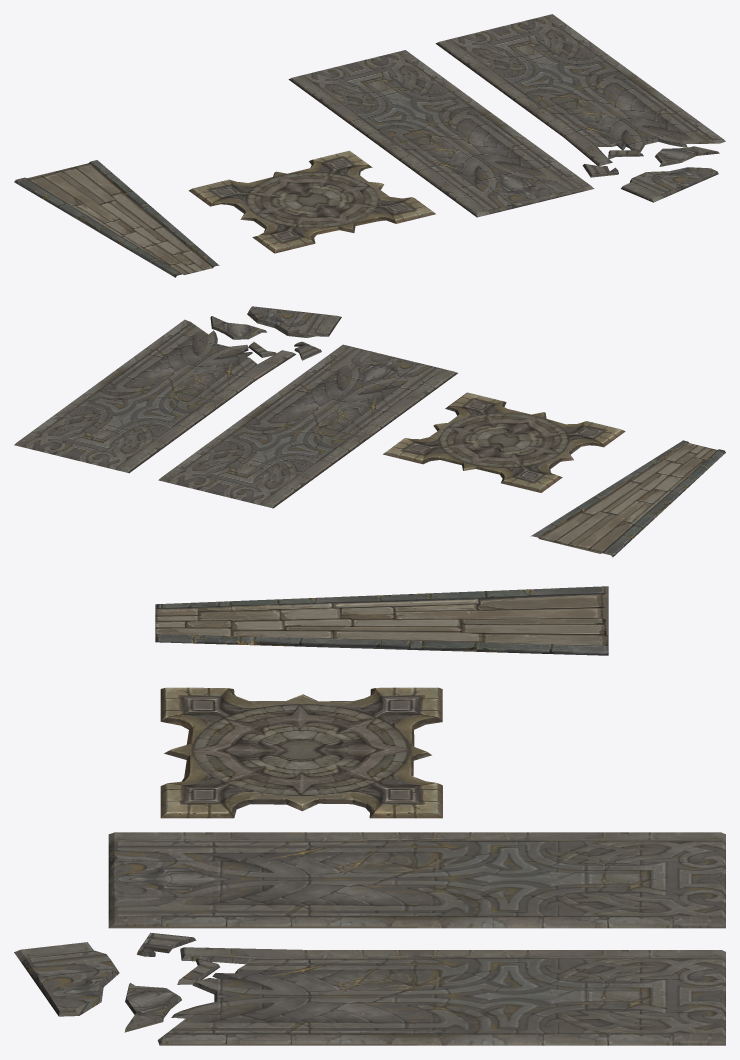
File: f_1110_floor_b.FBX
The picture shows the model from 3 angles, top to bottom: view 1: azimuth 30°, elevation 25°; view 2: azimuth 150°, elevation 25°; view 3: azimuth 270°, elevation 25°; orthographic projection. The views are drawn at different scales.
Visible parts, largest first — view 1: floor004, floor002, floor001, floor003; view 2: floor004, floor002, floor001, floor003; view 3: floor002, floor004, floor001, floor003.
Boxes of the visible parts, x1,y1,x2,y2 form: floor004: (435, 14, 725, 202); floor002: (288, 50, 594, 217); floor001: (188, 150, 435, 253); floor003: (14, 160, 219, 277); floor004: (14, 306, 341, 473); floor002: (158, 344, 457, 508); floor001: (383, 392, 625, 492); floor003: (530, 440, 725, 557); floor002: (108, 832, 725, 928); floor004: (14, 932, 725, 1045); floor001: (160, 687, 442, 818); floor003: (155, 586, 608, 655).
Bounding box in the file's own units: 2246 × 16.42 × 1472.
